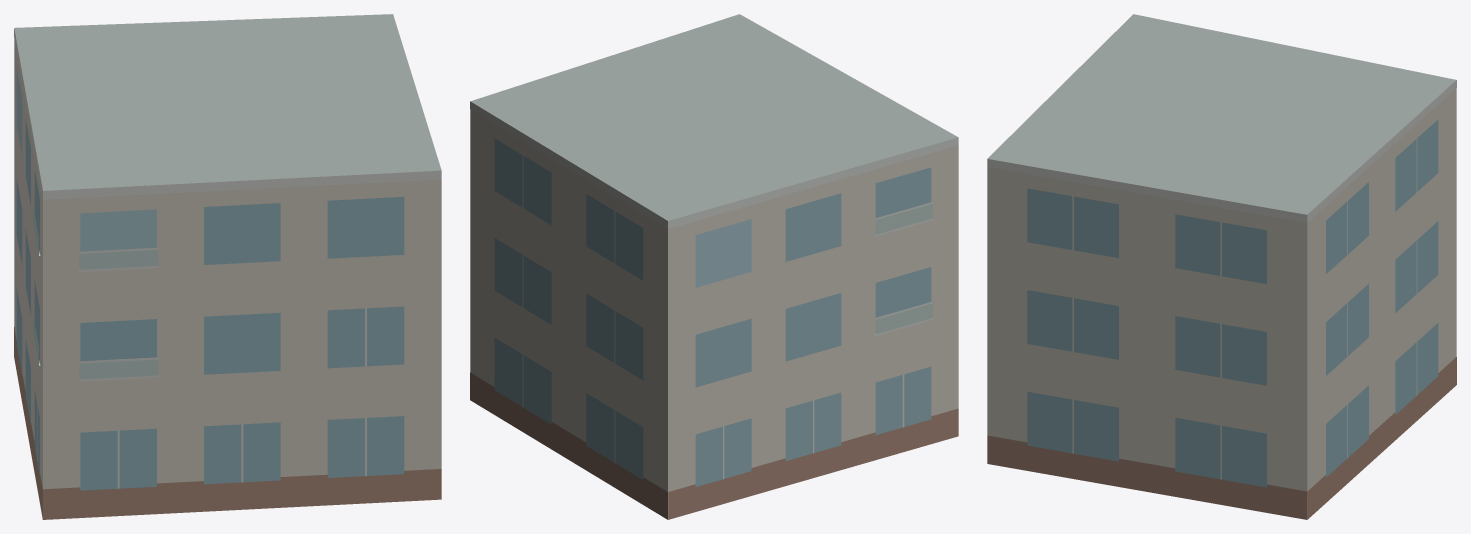
The model's file is survey-upis-32934462.glb.
3 views of the same model, side by side, from view 1: azimuth 30°, elevation 25°; view 2: azimuth 150°, elevation 25°; view 3: azimuth 270°, elevation 25° (orthographic). The views are drawn at different scales.
Parts seen in each view (by area): view 1: survey-upis-32934462.tmp; view 2: survey-upis-32934462.tmp; view 3: survey-upis-32934462.tmp.
Boxes of the visible parts, bbox=[...] form: survey-upis-32934462.tmp: bbox=[14, 14, 441, 519]; survey-upis-32934462.tmp: bbox=[470, 14, 958, 519]; survey-upis-32934462.tmp: bbox=[987, 14, 1456, 519].
Bounding box in the file's own units: 12.93 × 9.15 × 12.77.
